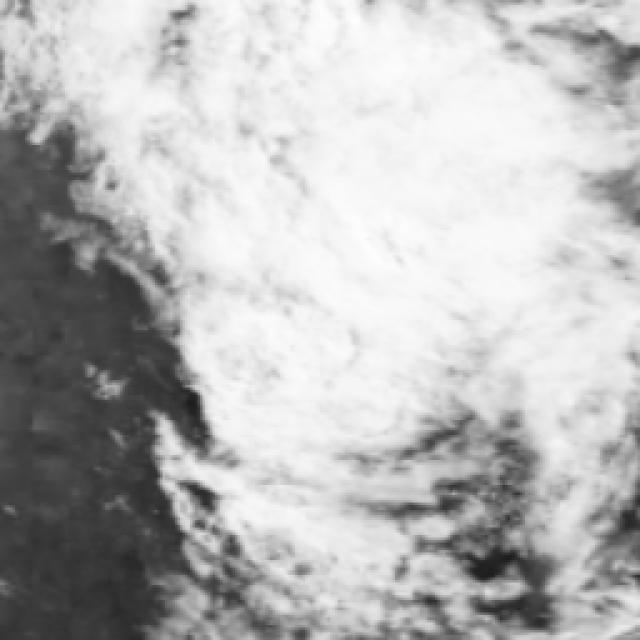CB: (306, 49, 521, 349)
